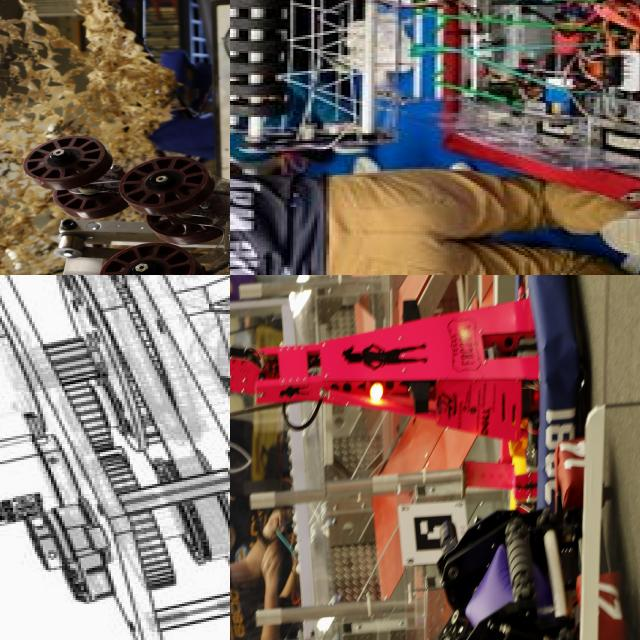FRC-Robots: (0, 275, 230, 640), (230, 275, 587, 501), (230, 0, 640, 154), (0, 122, 230, 275), (420, 493, 640, 640)
